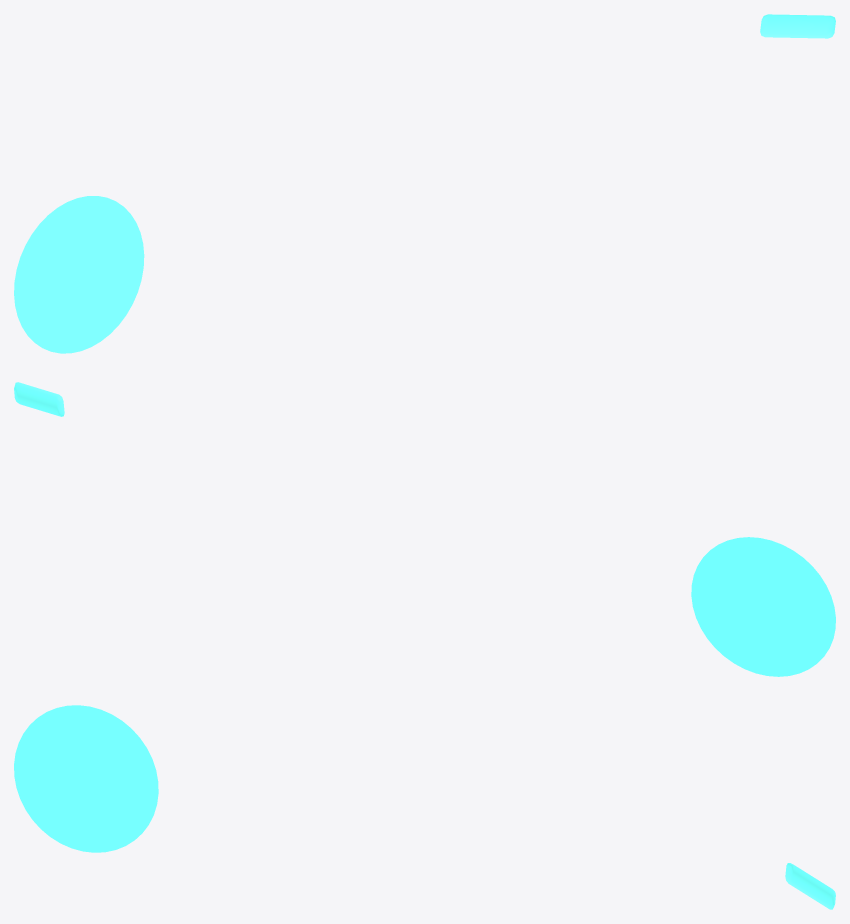
The model's file is omni_always_on.glb.
The picture shows the model from 3 angles, top to bottom: view 1: azimuth 30°, elevation 25°; view 2: azimuth 150°, elevation 25°; view 3: azimuth 330°, elevation 25°; orthographic projection. The views are drawn at different scales.
Visible parts, largest first — view 1: Object_31; view 2: Object_31; view 3: Object_31.
Boxes of the visible parts, x1,y1,x2,y2 form: Object_31: [14, 14, 835, 353]; Object_31: [14, 382, 835, 676]; Object_31: [14, 705, 835, 909].
Size of the model in its own units: 2.48 by 0.4187 by 0.1735.
